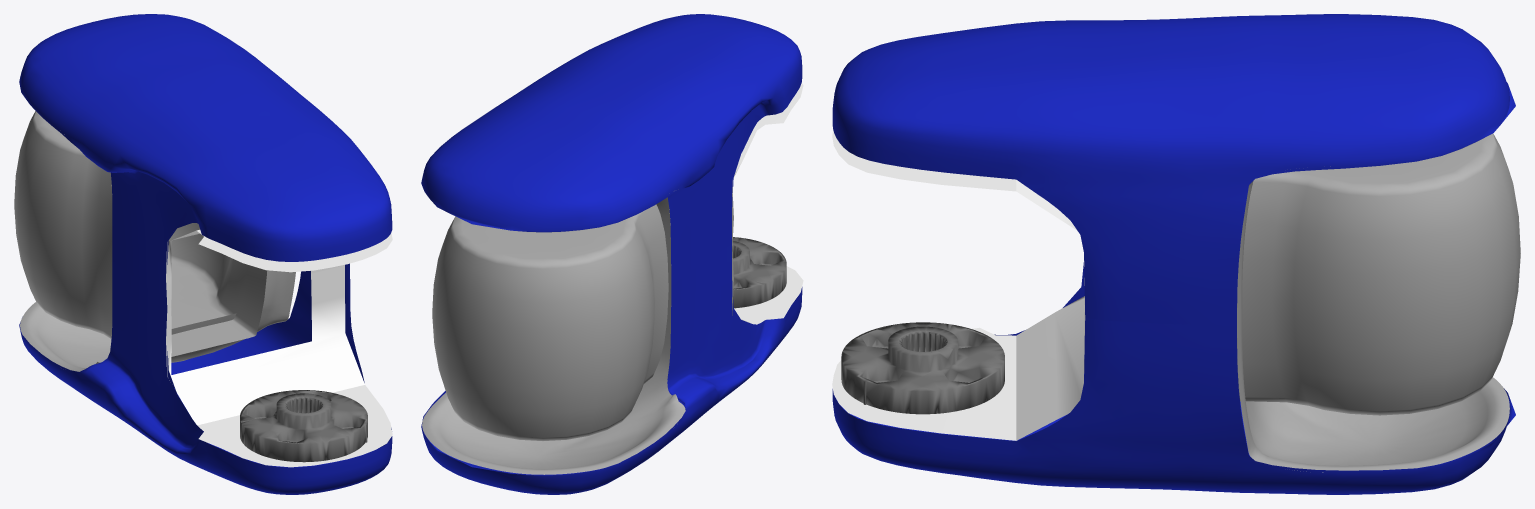
File: r_knee_link.obj
3 views of the same model, side by side, from view 1: azimuth 30°, elevation 25°; view 2: azimuth 150°, elevation 25°; view 3: azimuth 270°, elevation 25° (orthographic). The views are drawn at different scales.
Size of the model in its own units: 0.0422 by 0.0604 by 0.0895.
